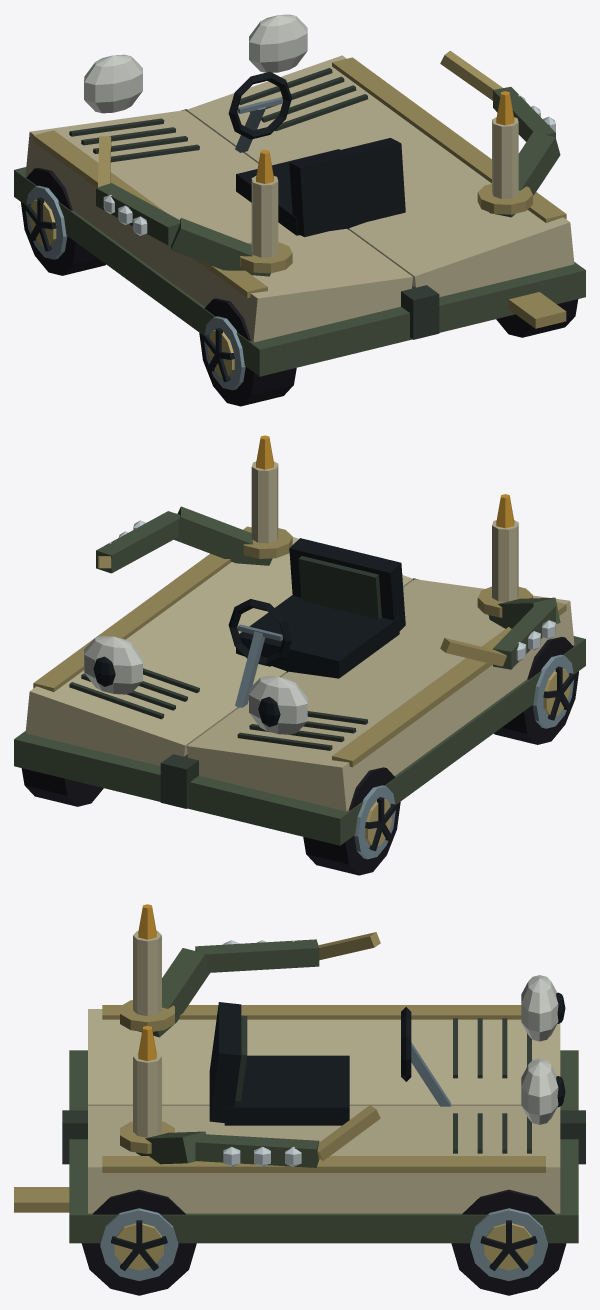
Rendered from kart.glb.
3 views of the same model, one above another, from view 1: azimuth 30°, elevation 25°; view 2: azimuth 150°, elevation 25°; view 3: azimuth 270°, elevation 25° (orthographic). The views are drawn at different scales.
Parts seen in each view (by area): view 1: identity-book-book-open-pages-and-spine, identity-book-driver-cockpit, identity-book-motif-tentacles, identity-book-motif-candles, identity-book-motif-eyes, wheel-rear-left, wheel-front-left, wheel-rear-right; view 2: identity-book-book-open-pages-and-spine, identity-book-driver-cockpit, identity-book-motif-tentacles, identity-book-motif-candles, identity-book-motif-eyes, wheel-front-left, wheel-rear-left, wheel-front-right; view 3: identity-book-book-open-pages-and-spine, identity-book-driver-cockpit, identity-book-motif-tentacles, wheel-front-right, wheel-rear-right, identity-book-motif-candles, identity-book-motif-eyes.
Part boxes in pixels (x1=…): identity-book-book-open-pages-and-spine: x1=14, y1=55, x2=585, y2=376; identity-book-driver-cockpit: x1=228, y1=72, x2=405, y2=237; identity-book-motif-tentacles: x1=96, y1=50, x2=560, y2=276; identity-book-motif-candles: x1=240, y1=91, x2=532, y2=273; identity-book-motif-eyes: x1=84, y1=14, x2=307, y2=113; wheel-rear-left: x1=199, y1=298, x2=296, y2=406; wheel-front-left: x1=21, y1=167, x2=105, y2=275; wheel-rear-right: x1=496, y1=299, x2=578, y2=337; identity-book-book-open-pages-and-spine: x1=14, y1=526, x2=585, y2=845; identity-book-driver-cockpit: x1=228, y1=538, x2=405, y2=708; identity-book-motif-tentacles: x1=96, y1=506, x2=560, y2=669; identity-book-motif-candles: x1=243, y1=435, x2=532, y2=617; identity-book-motif-eyes: x1=84, y1=636, x2=307, y2=734; wheel-front-left: x1=303, y1=767, x2=400, y2=875; wheel-rear-left: x1=494, y1=637, x2=578, y2=744; wheel-front-right: x1=21, y1=768, x2=103, y2=806; identity-book-book-open-pages-and-spine: x1=14, y1=1005, x2=585, y2=1243; identity-book-driver-cockpit: x1=209, y1=1002, x2=451, y2=1125; identity-book-motif-tentacles: x1=136, y1=932, x2=380, y2=1167; wheel-front-right: x1=451, y1=1189, x2=566, y2=1295; wheel-rear-right: x1=81, y1=1189, x2=196, y2=1295; identity-book-motif-candles: x1=120, y1=904, x2=174, y2=1153; identity-book-motif-eyes: x1=521, y1=975, x2=565, y2=1124.
Size of the model in its own units: 2.45 by 1.33 by 2.78.
